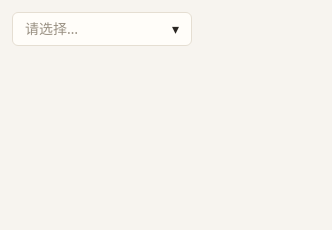
it: Select › searchable 过滤选项
Click the button with aria-label "x" at (102, 29), box [12,12,192,46]
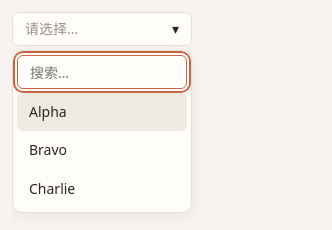
Type "brav" into the field with placeholder "搜索…" at (102, 72), box [17,55,187,89]
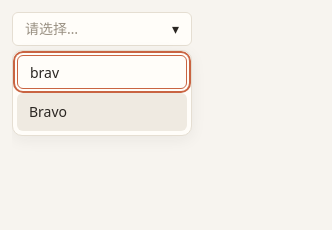
Result: the option "Bravo" is shown at [17,93,187,131]
Result: the option "Alpha" is gone
